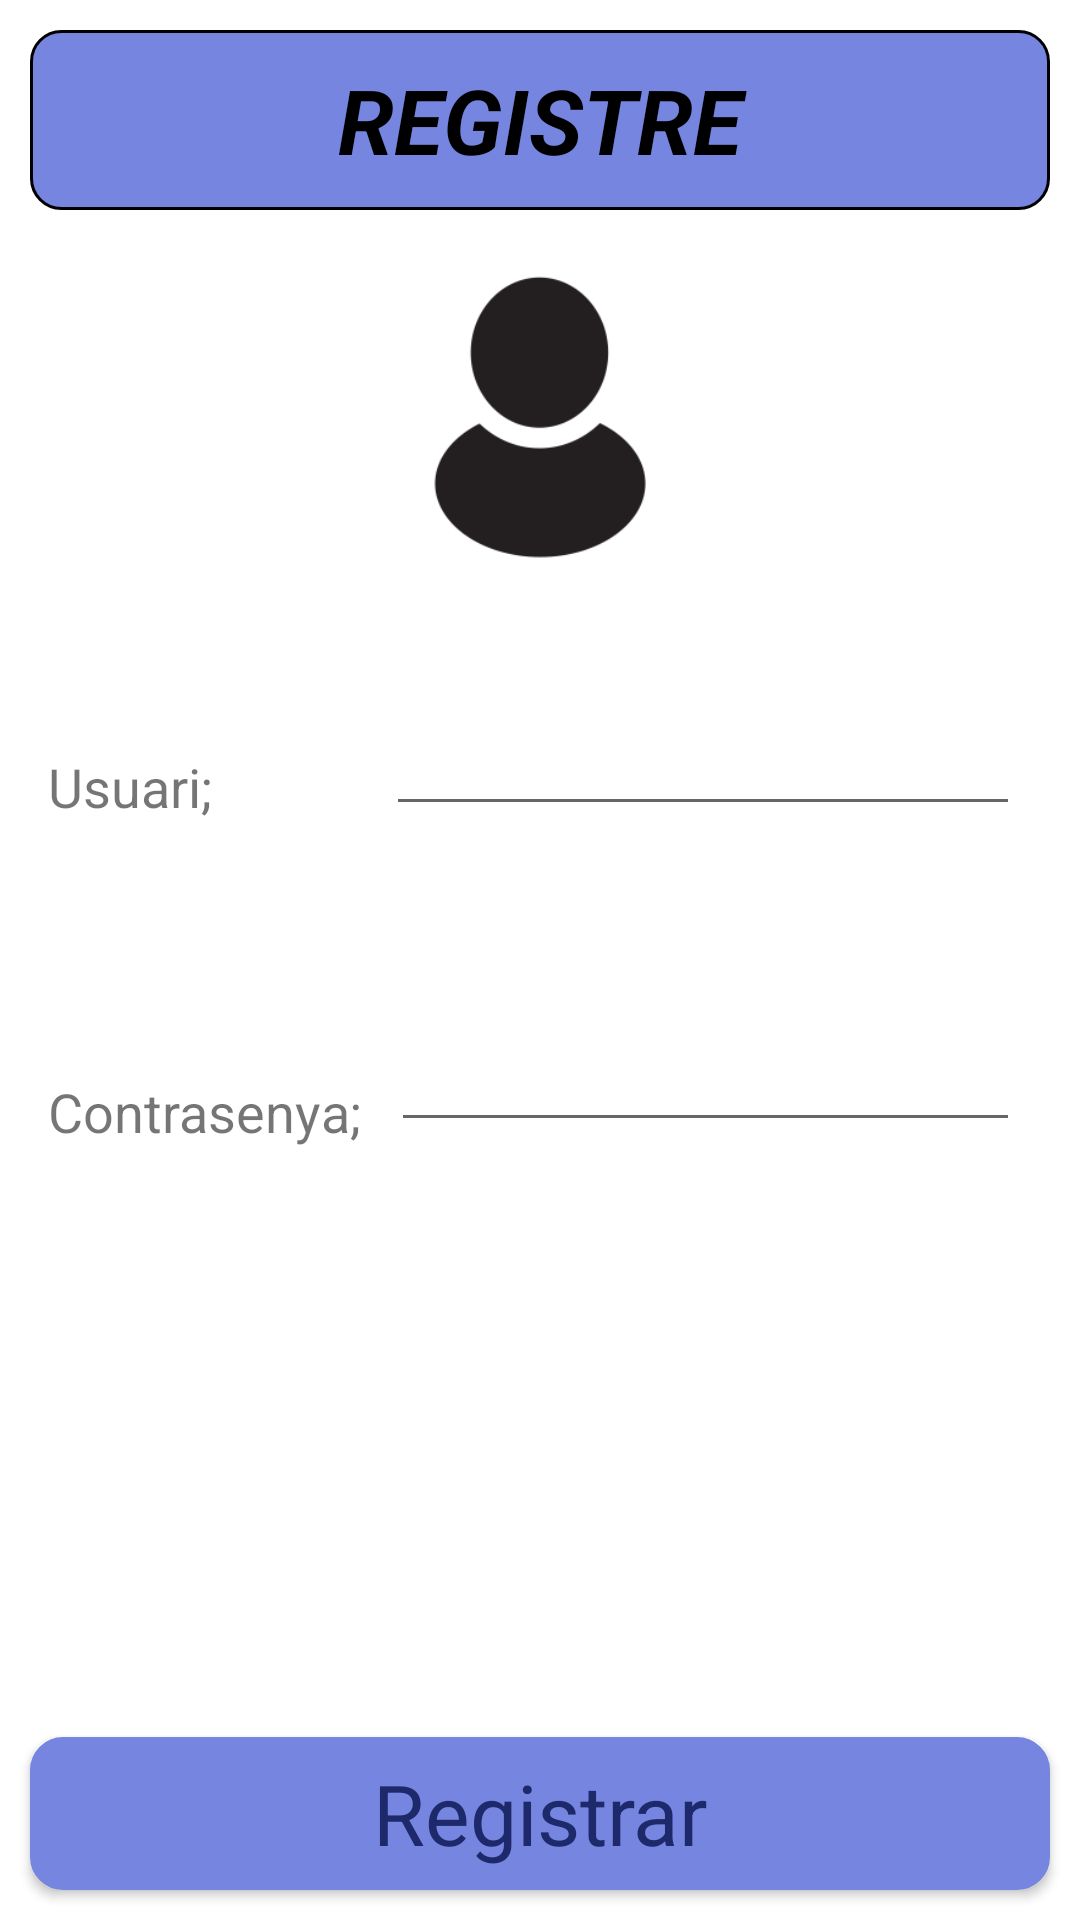

Icon click points for this 1080×1920 phone screenshot, format (x,y):
persona: (540,417)
